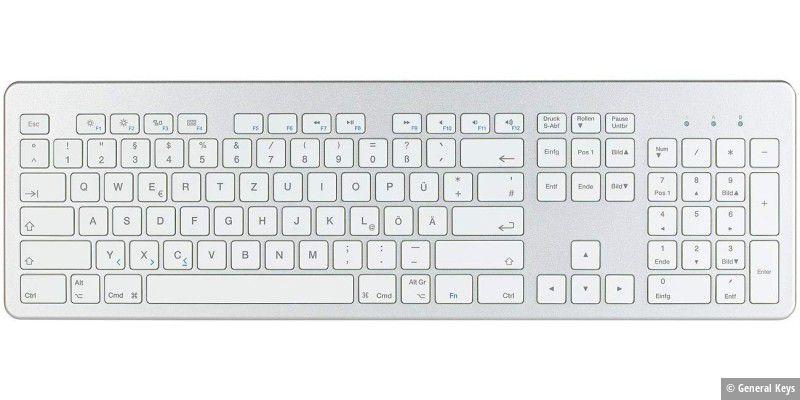0: (357, 137, 388, 167)
1: (52, 137, 83, 167)
2: (85, 137, 116, 167)
3: (119, 137, 150, 167)
4: (153, 137, 183, 167)
5: (187, 137, 217, 167)
6: (221, 137, 251, 167)
7: (255, 137, 285, 167)
8: (289, 137, 319, 167)
9: (323, 137, 354, 167)
a: (77, 204, 108, 235)
accent: (426, 137, 455, 166)
ae: (417, 204, 447, 235)
alt-left: (69, 273, 101, 304)
altgr-right: (399, 272, 431, 304)
b: (229, 238, 260, 269)
c: (162, 239, 193, 269)
caret: (19, 137, 48, 167)
comma: (332, 239, 362, 269)
d: (145, 204, 175, 235)
del: (459, 137, 523, 167)
e: (136, 170, 167, 201)
enter: (450, 204, 523, 235)
f: (179, 204, 209, 235)
g: (213, 204, 243, 235)
h: (247, 204, 277, 235)
hash: (476, 172, 524, 203)
i: (306, 170, 336, 201)
j: (281, 204, 311, 235)
k: (314, 204, 345, 235)
keyboard: (3, 79, 797, 323)
l: (349, 204, 379, 235)
m: (298, 238, 328, 269)
minus: (399, 239, 430, 269)
n: (263, 239, 294, 269)
o: (340, 170, 370, 201)
oe: (383, 204, 413, 235)
p: (375, 170, 404, 201)
plus: (442, 170, 472, 201)
point: (366, 239, 396, 269)
q: (68, 170, 100, 201)
r: (170, 170, 201, 201)
s: (111, 204, 141, 235)
shift-left: (18, 237, 91, 269)
shift-lock: (18, 205, 73, 235)
shift-right: (433, 238, 523, 269)
space: (143, 272, 356, 304)
ss: (391, 137, 422, 167)
strg-left: (19, 273, 67, 305)
strg-right: (475, 273, 526, 304)
t: (204, 170, 234, 201)
tab: (18, 170, 66, 201)
u: (272, 170, 302, 201)
ue: (408, 170, 438, 201)
v: (196, 238, 227, 269)
w: (103, 170, 133, 201)
x: (128, 238, 159, 269)
y: (94, 238, 125, 269)
z: (238, 171, 268, 201)
